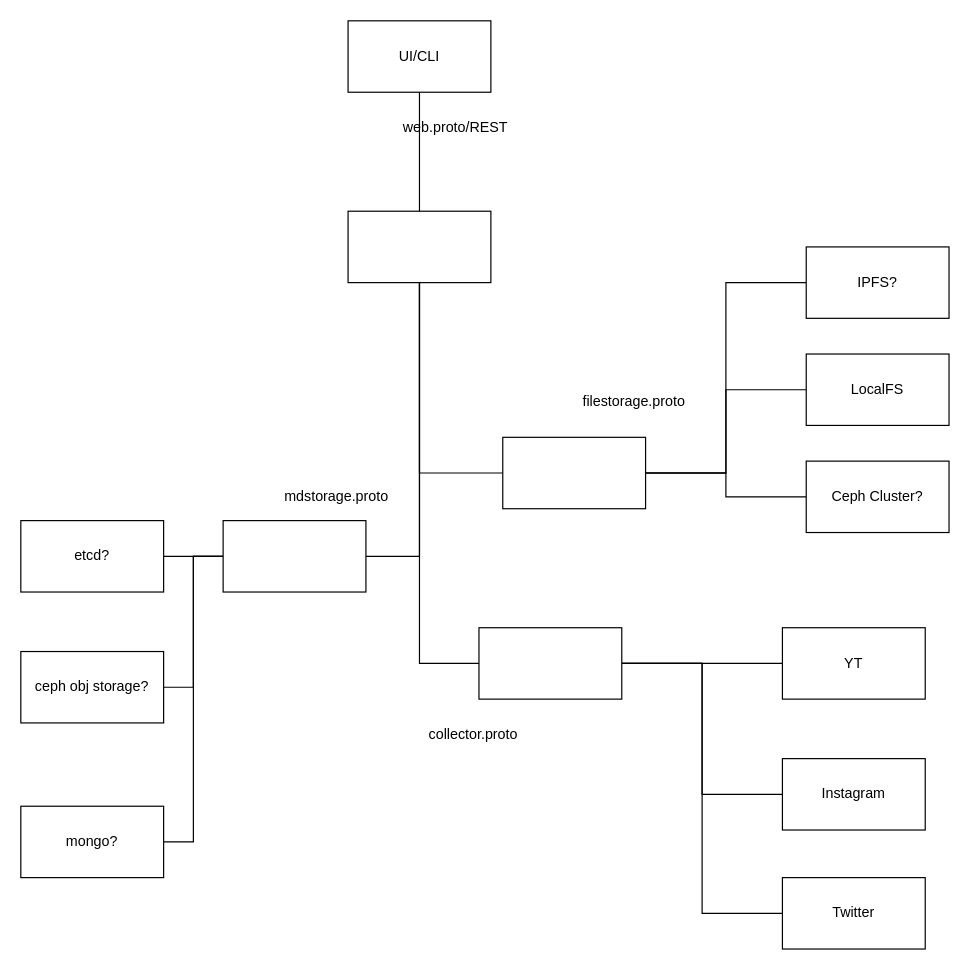
Some shapes in this 970 by 970 pixel diagram are drawn without their labels. Here are the shapes that lost their labels. From the top down, the box of each, then its label:
(347, 210, 491, 283): Controller API Endpoint
(502, 436, 646, 509): File Storages
(222, 519, 366, 592): MD Storage
(478, 627, 622, 699): Collectors
